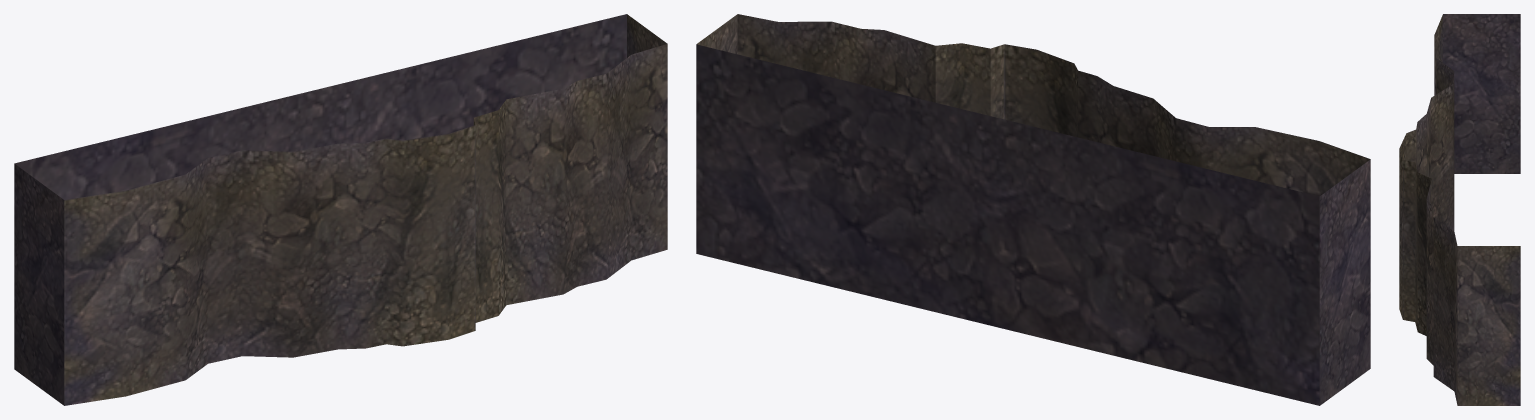
Rendered from scenes_village_road02a.FBX.
The picture shows the model from 3 angles, left to right: view 1: azimuth 30°, elevation 25°; view 2: azimuth 150°, elevation 25°; view 3: azimuth 270°, elevation 25°; orthographic projection. The views are drawn at different scales.
Parts seen in each view (by area): view 1: scenes_village_road02a; view 2: scenes_village_road02a; view 3: scenes_village_road02a.
Boxes of the visible parts, left/top/right/bottom form: scenes_village_road02a: left=14, top=14, right=667, bottom=405; scenes_village_road02a: left=696, top=14, right=1370, bottom=405; scenes_village_road02a: left=1399, top=14, right=1520, bottom=405.
Bounding box in the file's own units: 1040 × 334 × 230.
